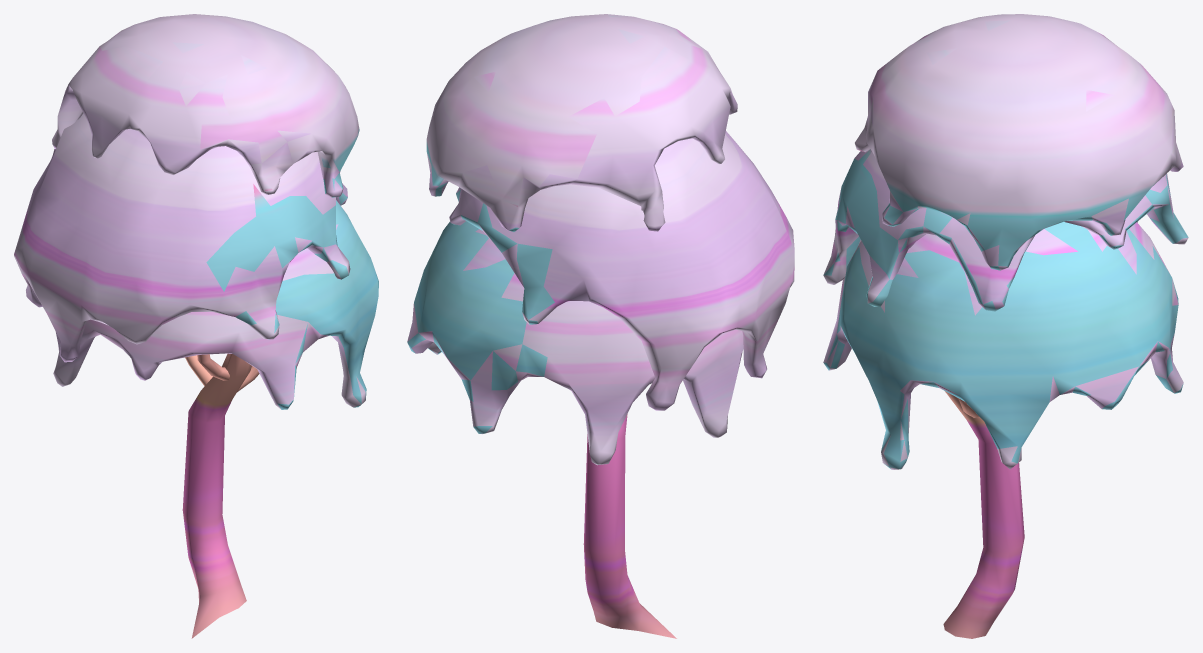
File: grande_seta08.fbx
The picture shows the model from 3 angles, left to right: view 1: azimuth 30°, elevation 25°; view 2: azimuth 150°, elevation 25°; view 3: azimuth 270°, elevation 25°; orthographic projection. The views are drawn at different scales.
Parts seen in each view (by area): view 1: SetaXL_08; view 2: SetaXL_08; view 3: SetaXL_08.
Part boxes in pixels (left/top/right/bottom): SetaXL_08: left=14, top=14, right=378, bottom=638; SetaXL_08: left=407, top=14, right=794, bottom=638; SetaXL_08: left=823, top=14, right=1188, bottom=638.
Size of the model in its own units: 5413 by 9331 by 5049.
Materials: 1 (1 with a texture image).
